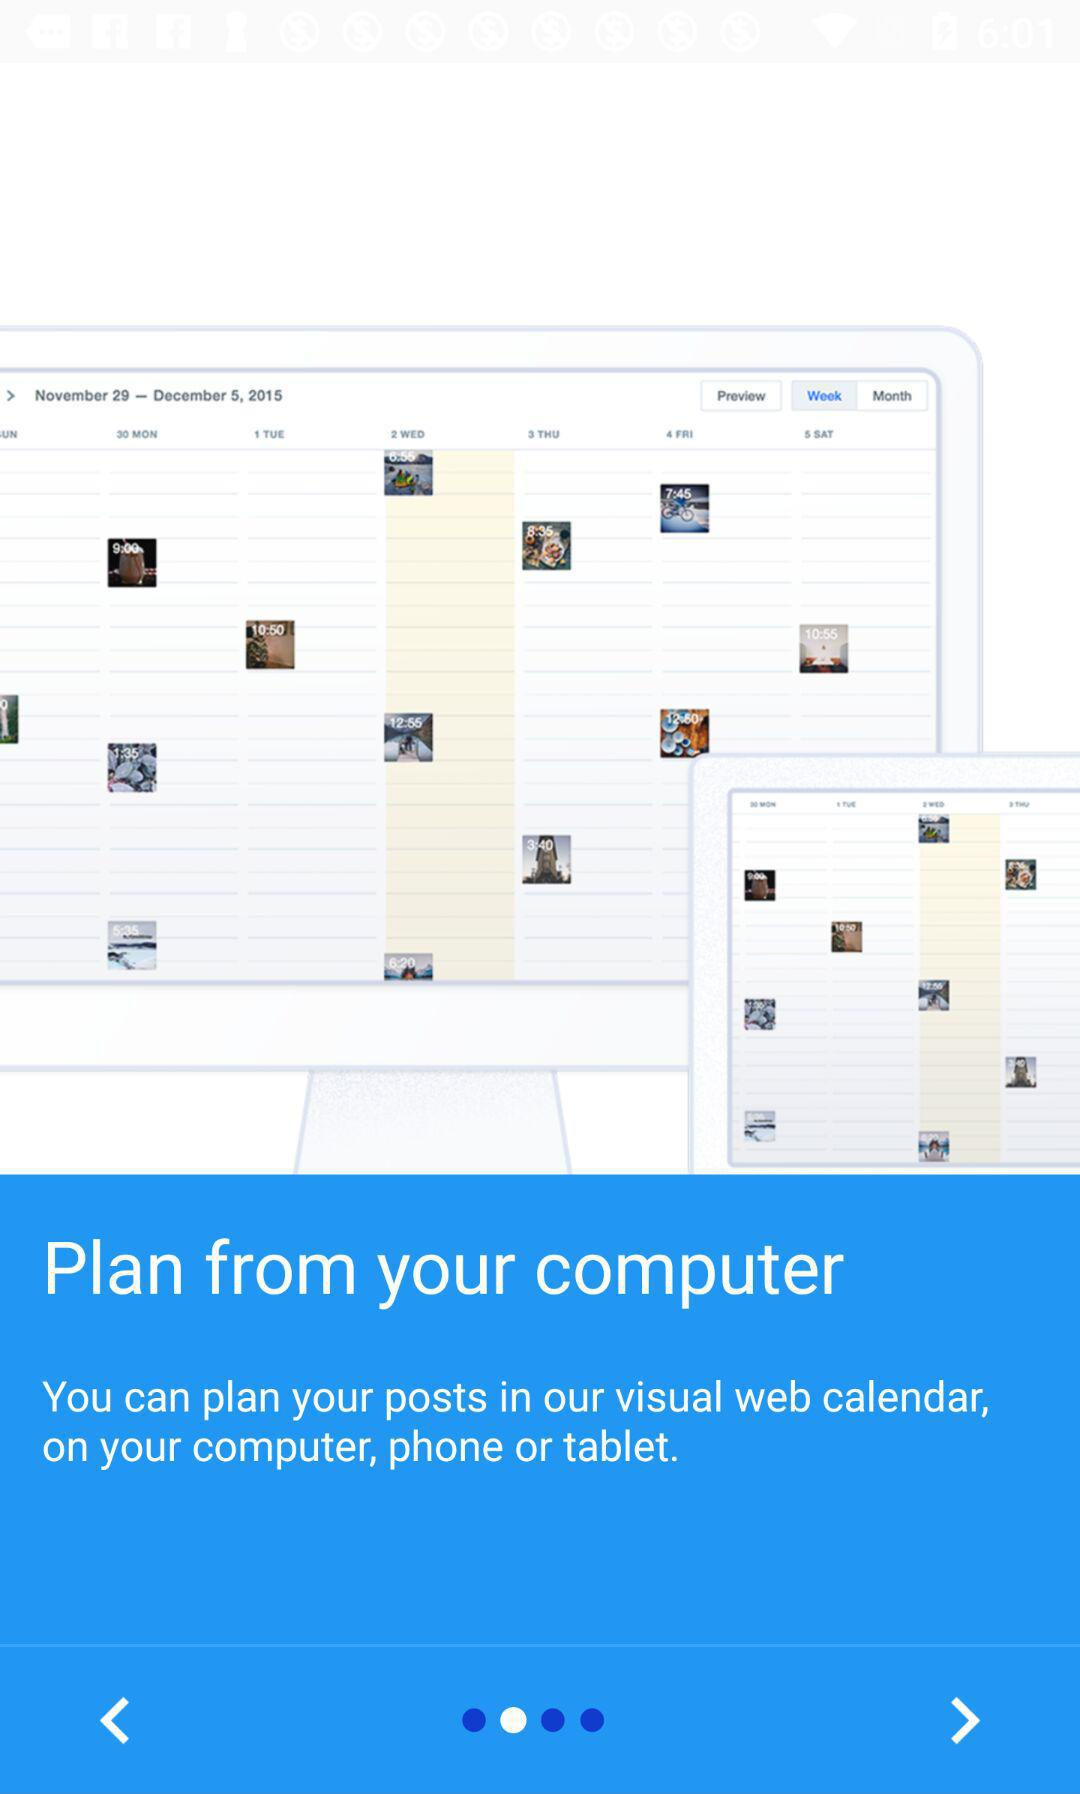Icon: (97, 1694, 135, 1750), (949, 1695, 983, 1747)
Image: (3, 322, 1077, 1175)
PageIndicator: (457, 1704, 607, 1738)
Text: (41, 1378, 990, 1474), (46, 1237, 846, 1313)
UpperTaskBar: (1, 1, 1080, 64)
